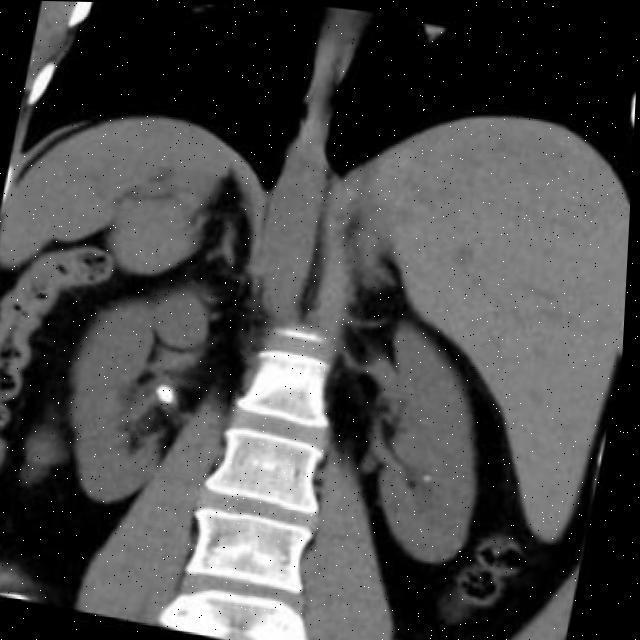Tas_Var: (158, 374, 183, 408), (429, 468, 439, 481)
